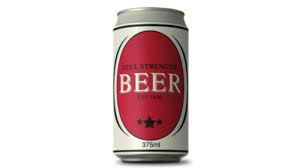can: (108, 6, 198, 167)
